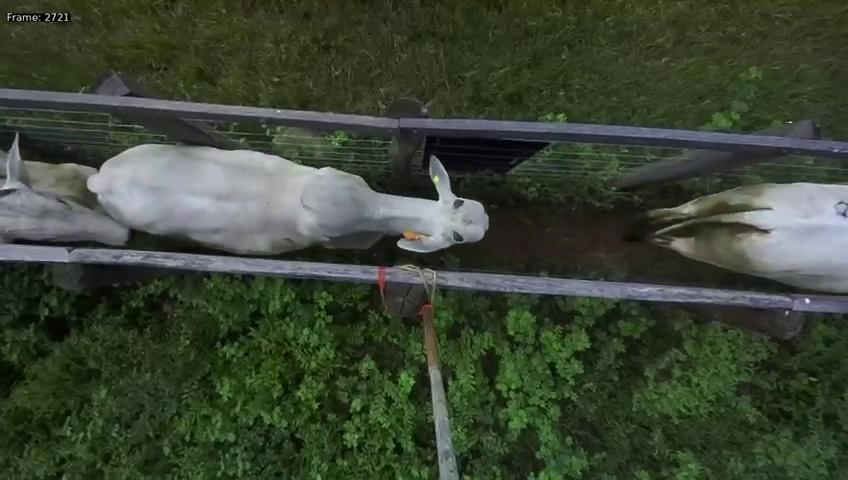cattle: (84, 130, 489, 258)
